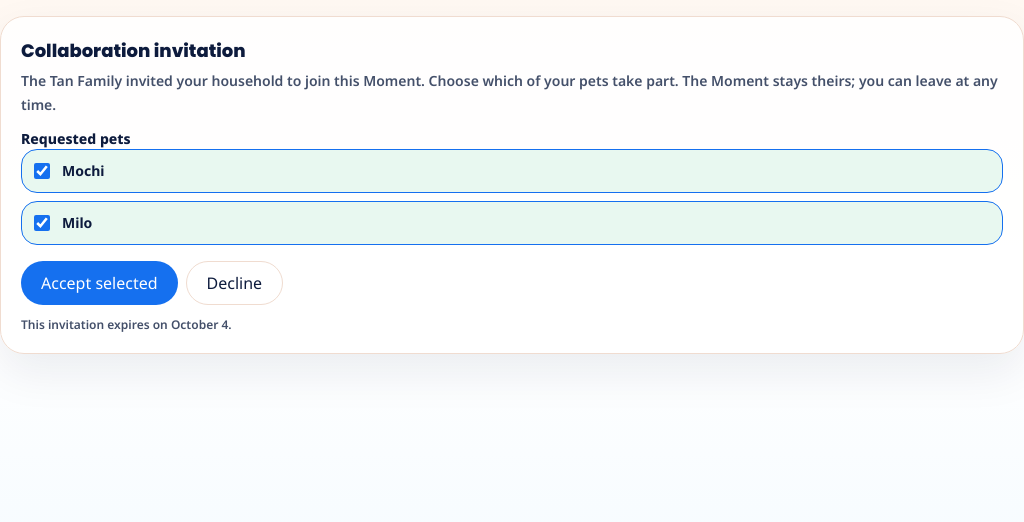
Test case: a household's collaboration invitation on the Moment › shows an error from a refused accept without leaving the page
Click the button "Accept selected".
click(99, 283)  # box [21,261,178,305]
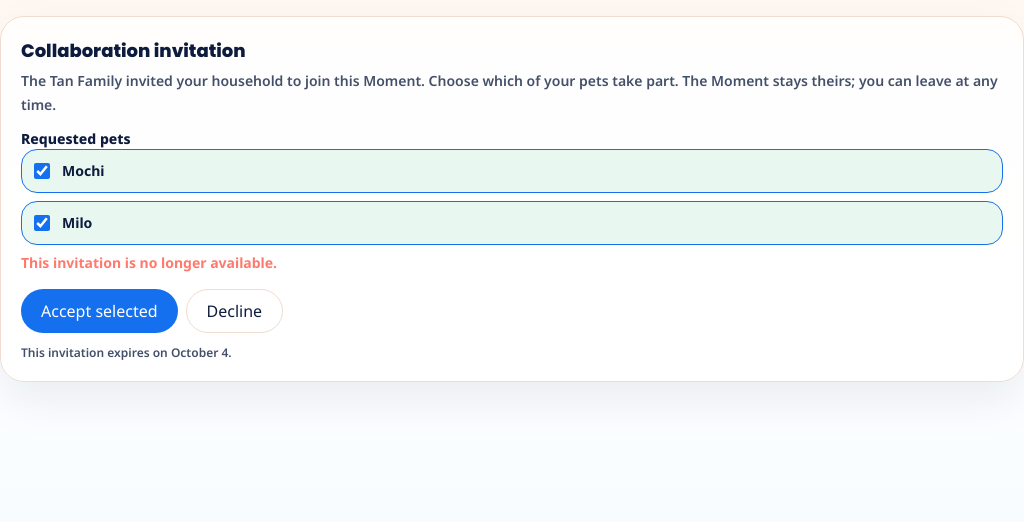
Now the message reads "This invitation is no longer available.", box [21,253,277,272]
